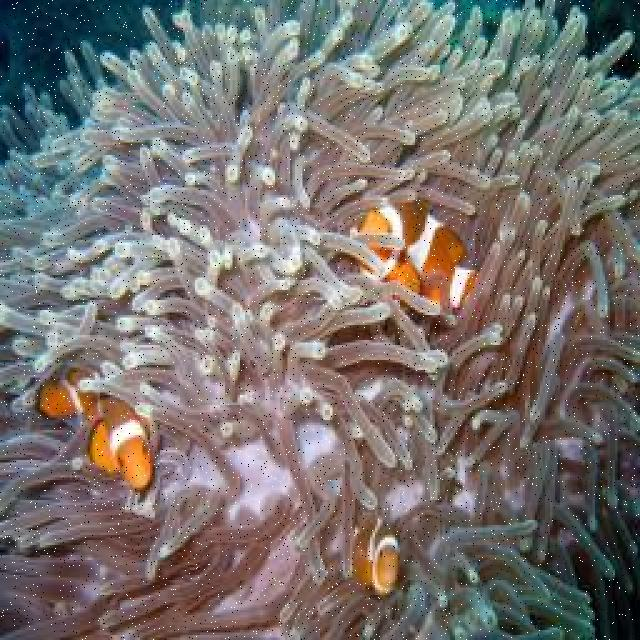fish: (348, 197, 480, 327), (33, 362, 153, 490), (353, 513, 405, 597)
reefs: (0, 0, 638, 636)
